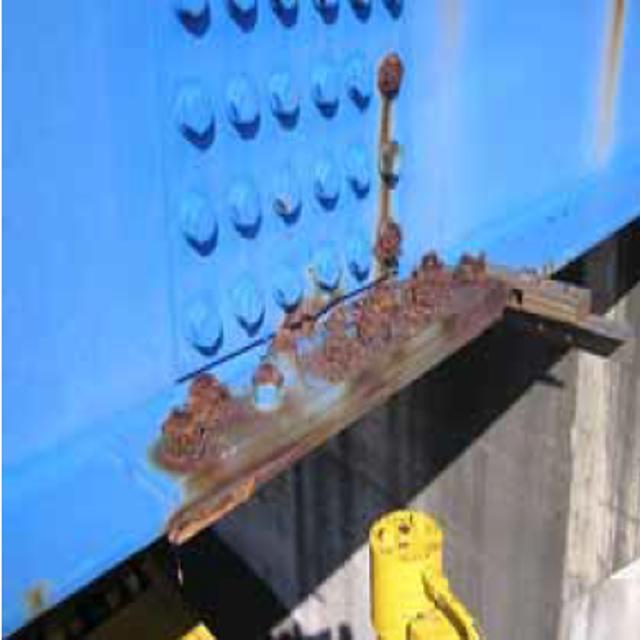corrosion: (126, 282, 557, 537), (374, 46, 414, 260)
